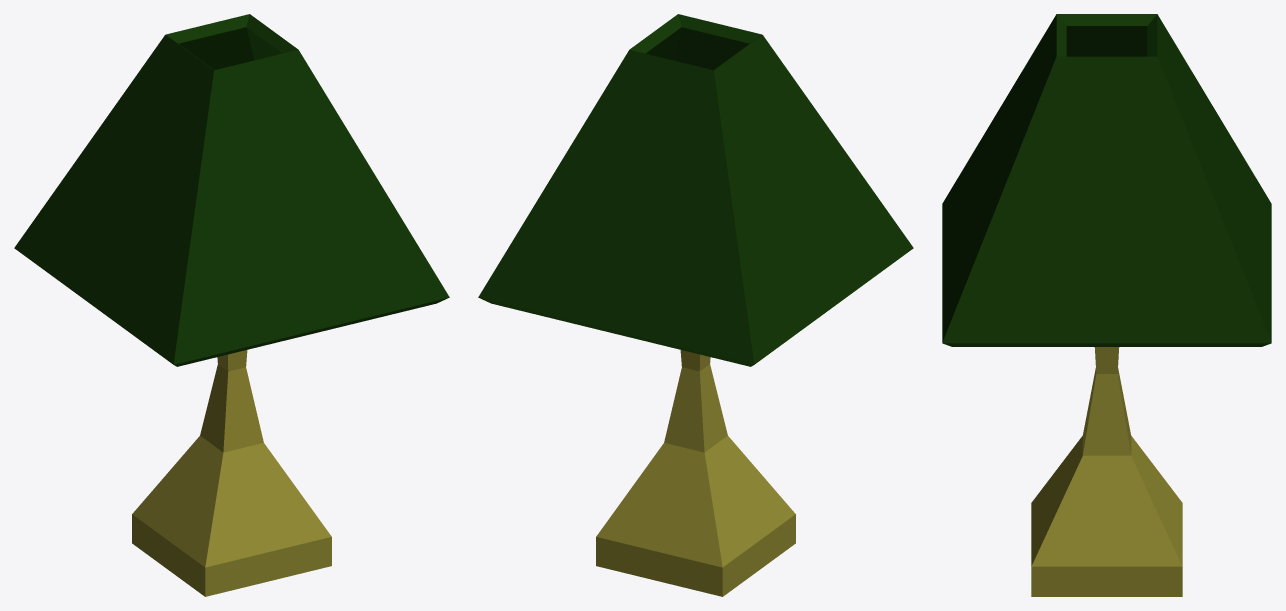
The model's file is Bedside_Lamp.glb.
The picture shows the model from 3 angles, left to right: view 1: azimuth 30°, elevation 25°; view 2: azimuth 150°, elevation 25°; view 3: azimuth 270°, elevation 25°; orthographic projection. The views are drawn at different scales.
Visible parts, largest first — view 1: Cube.040; view 2: Cube.040; view 3: Cube.040.
Boxes of the visible parts, left/top/right/bottom form: Cube.040: left=14, top=14, right=449, bottom=596; Cube.040: left=478, top=14, right=913, bottom=596; Cube.040: left=942, top=14, right=1271, bottom=596.
Size of the model in its own units: 3.44 by 6.1 by 3.44.
1 material, 1 textured.
